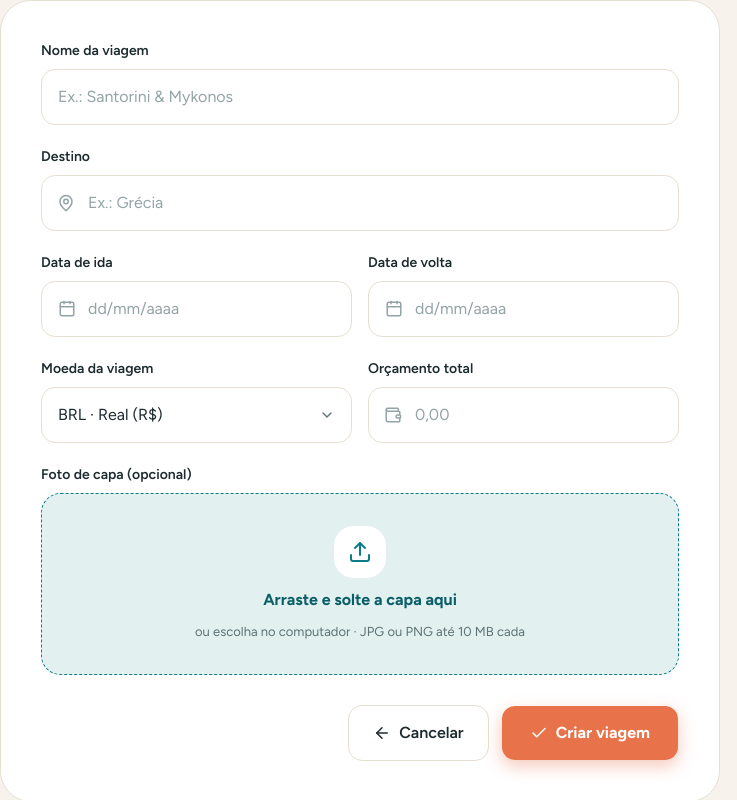
Test: NewTripForm › shows pt-BR messages under each field on an empty submit
Click the button "Criar viagem" at x=590, y=732, box left=501, top=704, right=679, bottom=760
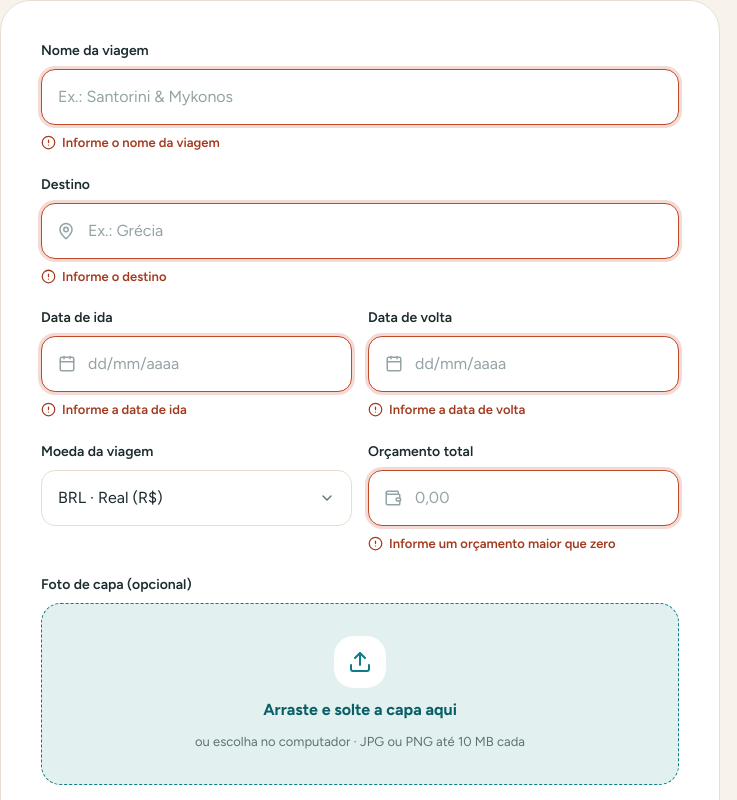
Expected: the text "Informe o nome da viagem" is shown, left=41, top=135, right=220, bottom=150
Expected: the text "Informe o destino" is shown, left=41, top=268, right=166, bottom=284
Expected: the text "Informe a data de ida" is shown, left=41, top=402, right=187, bottom=417
